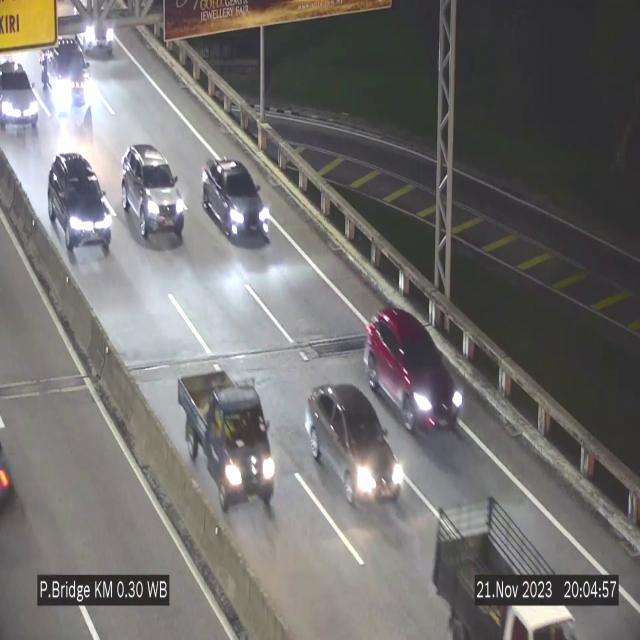Car: (365, 302, 461, 433), (308, 380, 402, 508), (47, 153, 111, 260), (121, 145, 185, 243), (202, 159, 269, 243), (38, 29, 94, 122), (0, 50, 39, 133), (73, 0, 125, 60)
Truck: (426, 492, 600, 640), (176, 364, 284, 512)
